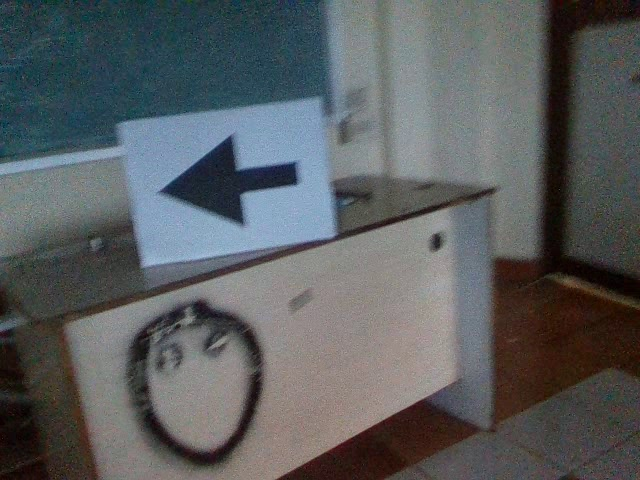Left: (149, 127, 302, 231)
